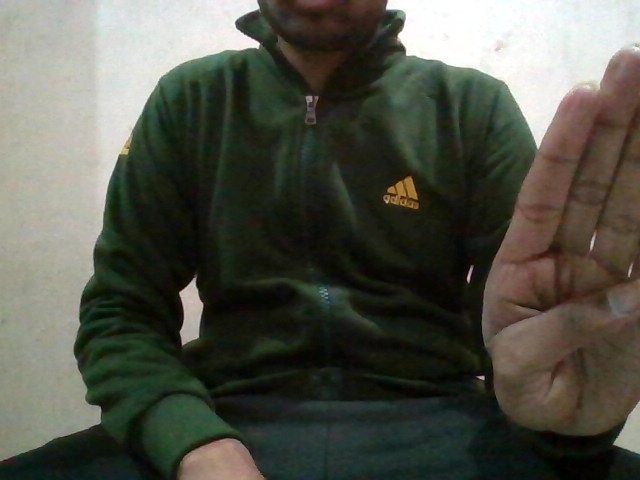B: (474, 31, 640, 453)
